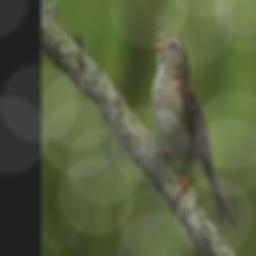Sparrow: (151, 29, 235, 227)
